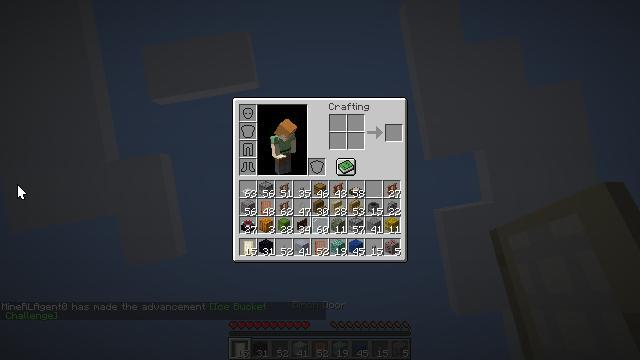cursor: (17, 184, 27, 200)
